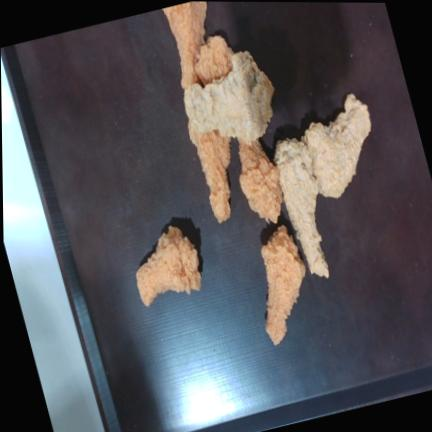chicken: (184, 50, 273, 143), (274, 138, 328, 276), (302, 94, 370, 197), (261, 225, 305, 344), (188, 120, 230, 222), (162, 1, 206, 88), (239, 139, 282, 222)
